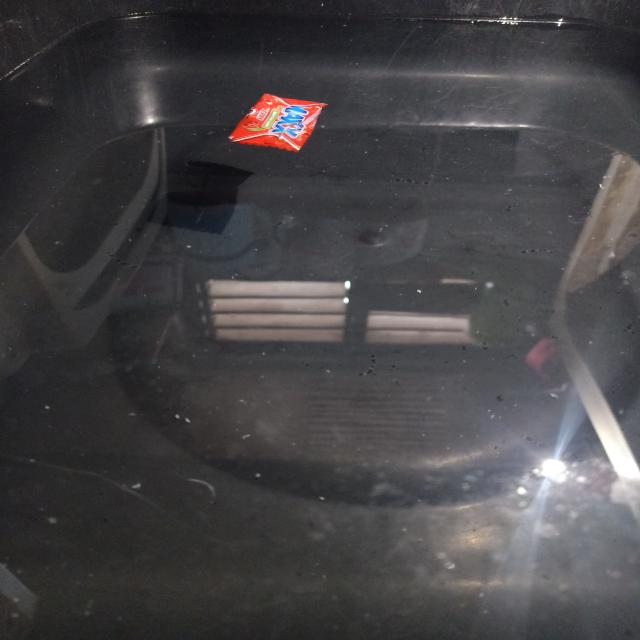Plastic Wrapper: (229, 94, 326, 152)
